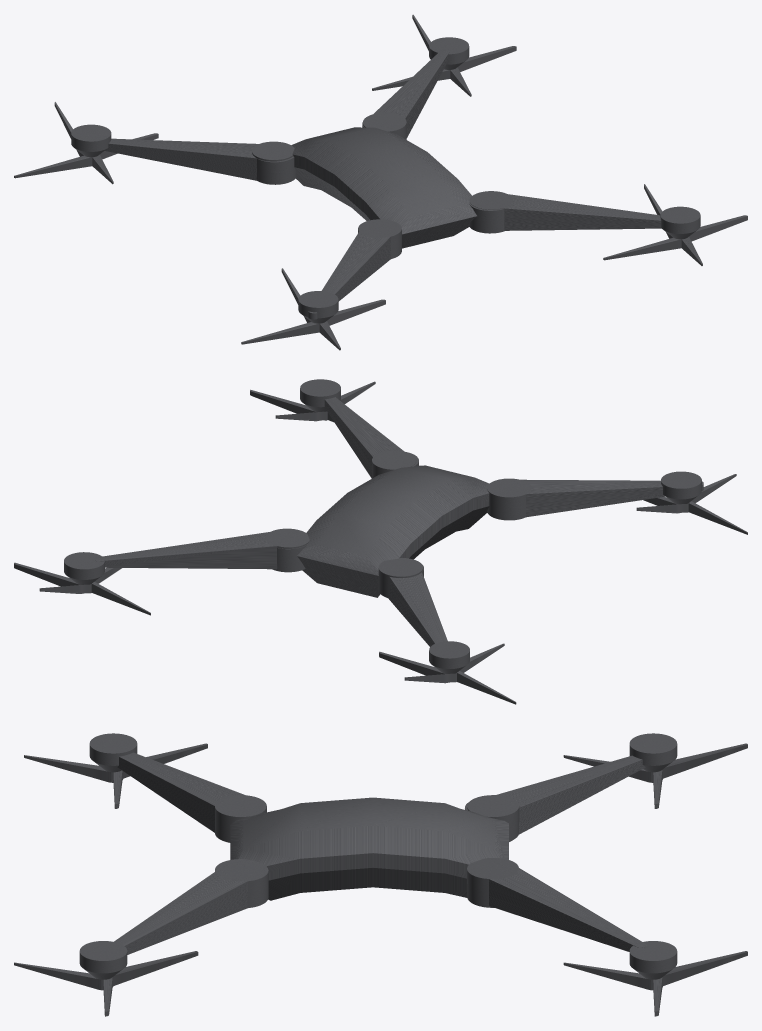
Rendered from Drone.obj.
3 renders of one model, top to bottom at view 1: azimuth 30°, elevation 25°; view 2: azimuth 150°, elevation 25°; view 3: azimuth 270°, elevation 25°, orthographic. The views are drawn at different scales.
Parts seen in each view (by area): view 1: Plane.003; view 2: Plane.003; view 3: Plane.003.
Part boxes in pixels (bbox=[...]): Plane.003: bbox=[14, 14, 747, 350]; Plane.003: bbox=[14, 379, 747, 704]; Plane.003: bbox=[14, 733, 747, 1016].
Bounding box in the file's own units: 12.81 × 1.53 × 13.79.
